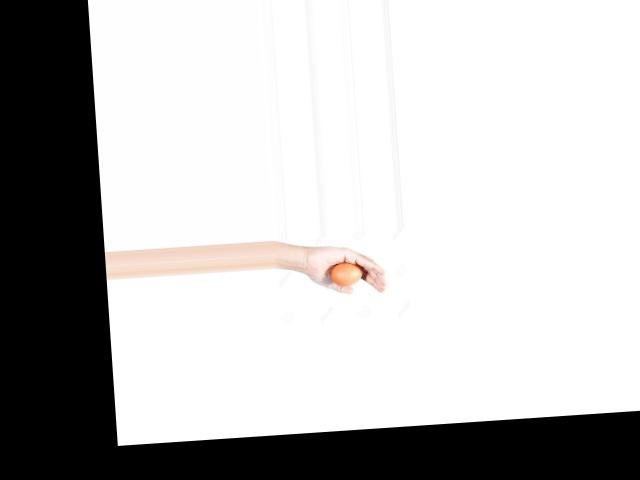egg: (330, 261, 362, 286)
